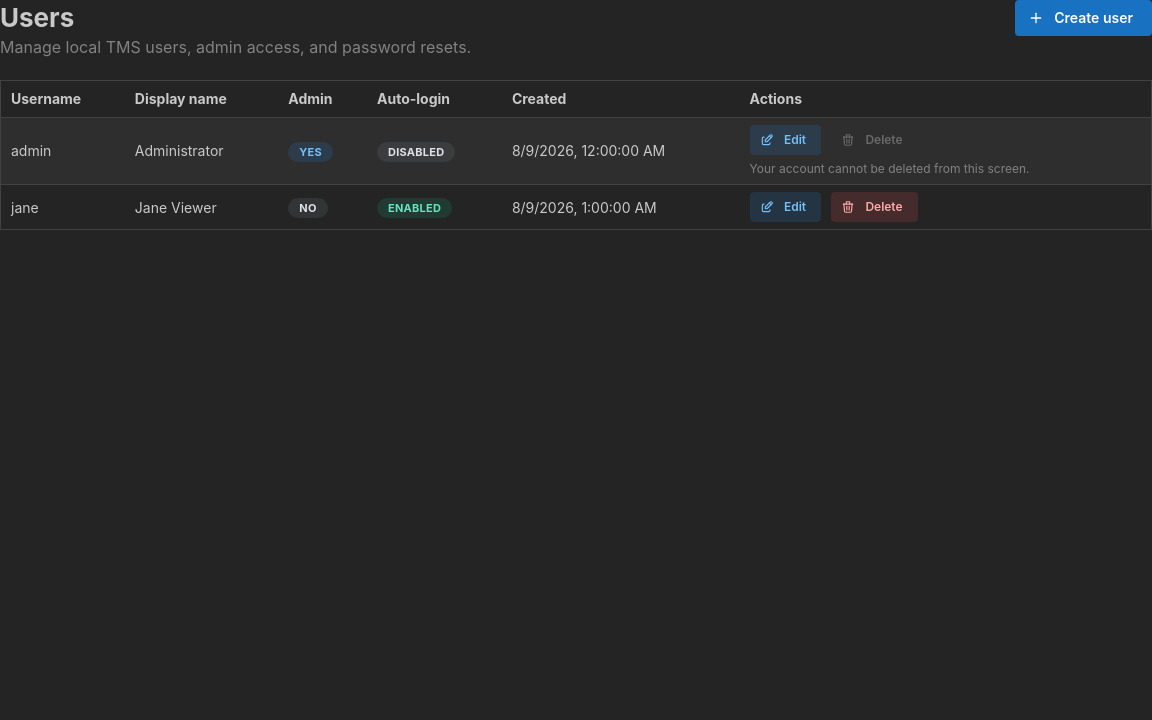
Test case: UsersPage › guards self-delete controls
Expected: the text "admin" is shown, [0,117,125,185]
Expected: the button with aria-label "Delete admin" is disabled, [831,125,918,155]
Step 1. Click the button with aria-label "Edit admin" → [785, 140], box [750,125,821,155]
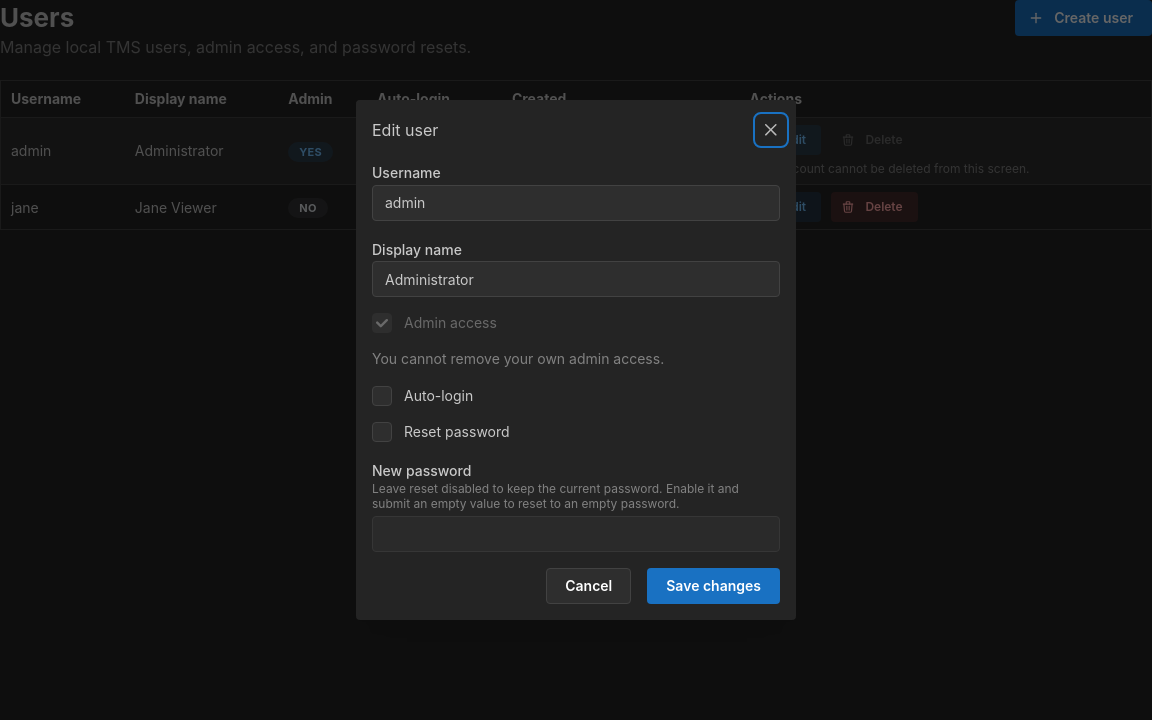
Expected: the checkbox labelled "Admin access" is disabled, [372,313,392,333]
